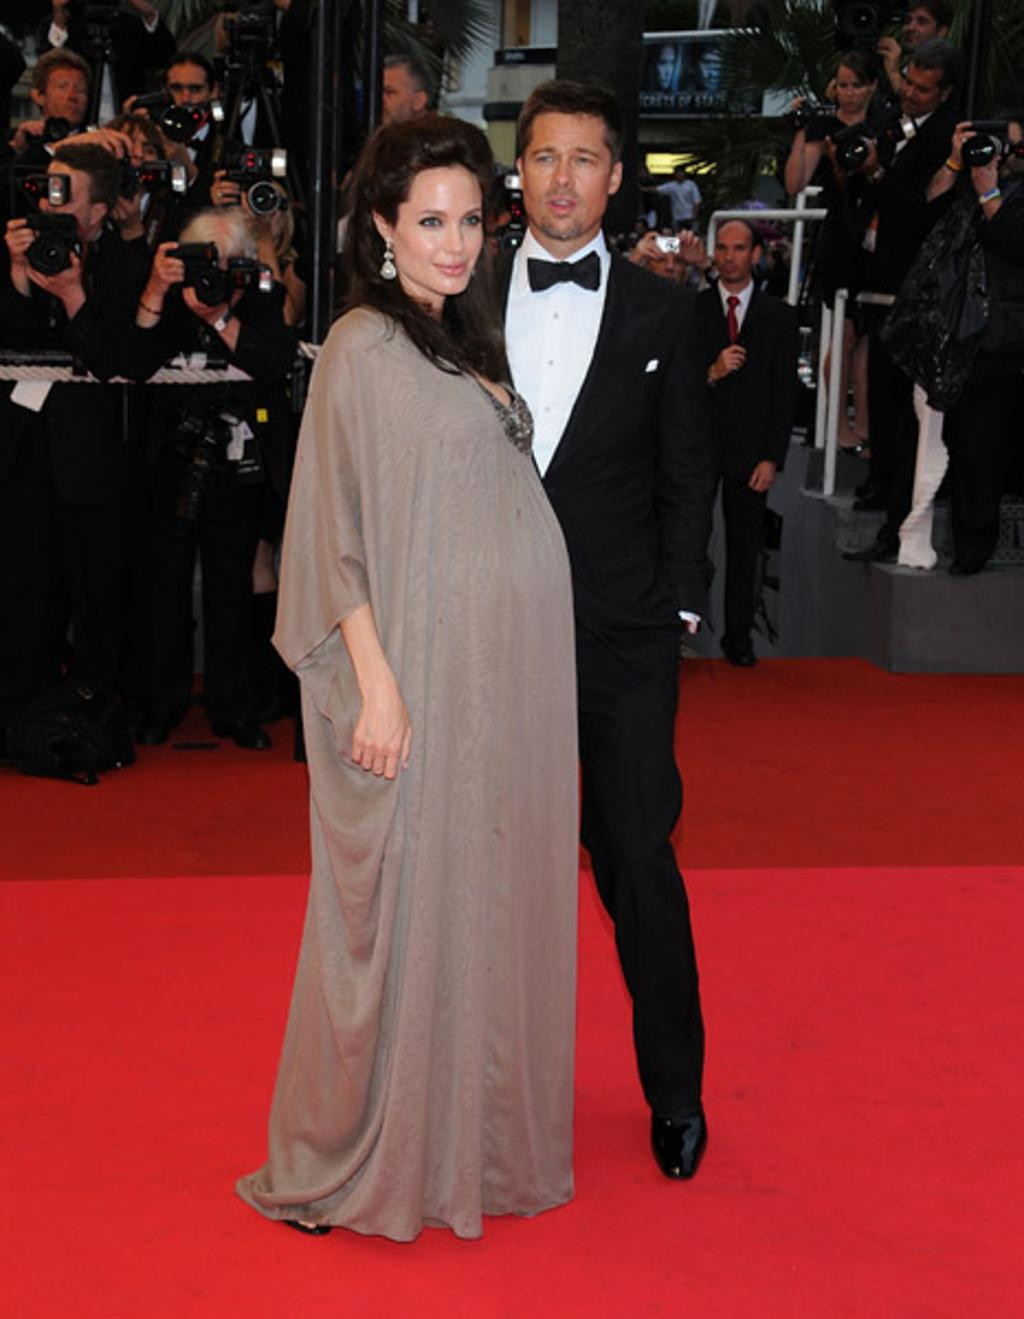face: (388, 178, 481, 293), (523, 123, 611, 238), (183, 241, 246, 315), (39, 169, 94, 246), (105, 127, 160, 200), (230, 175, 285, 243), (373, 72, 415, 129), (43, 71, 86, 123), (167, 70, 208, 118), (902, 69, 938, 113), (717, 232, 751, 279), (900, 8, 938, 49), (837, 67, 868, 112), (995, 127, 1024, 175), (651, 240, 680, 286), (698, 54, 721, 90), (657, 51, 674, 88), (675, 168, 683, 179)
